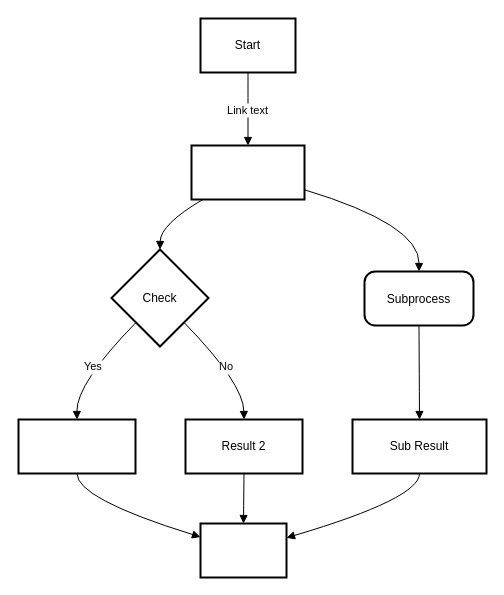
This 504x595 diagram has some shape labels left out. The centre of each missing label's shape, as x and y in pixels:
End: point 243,550
Process: point 247,172
Result 1: point 76,446
